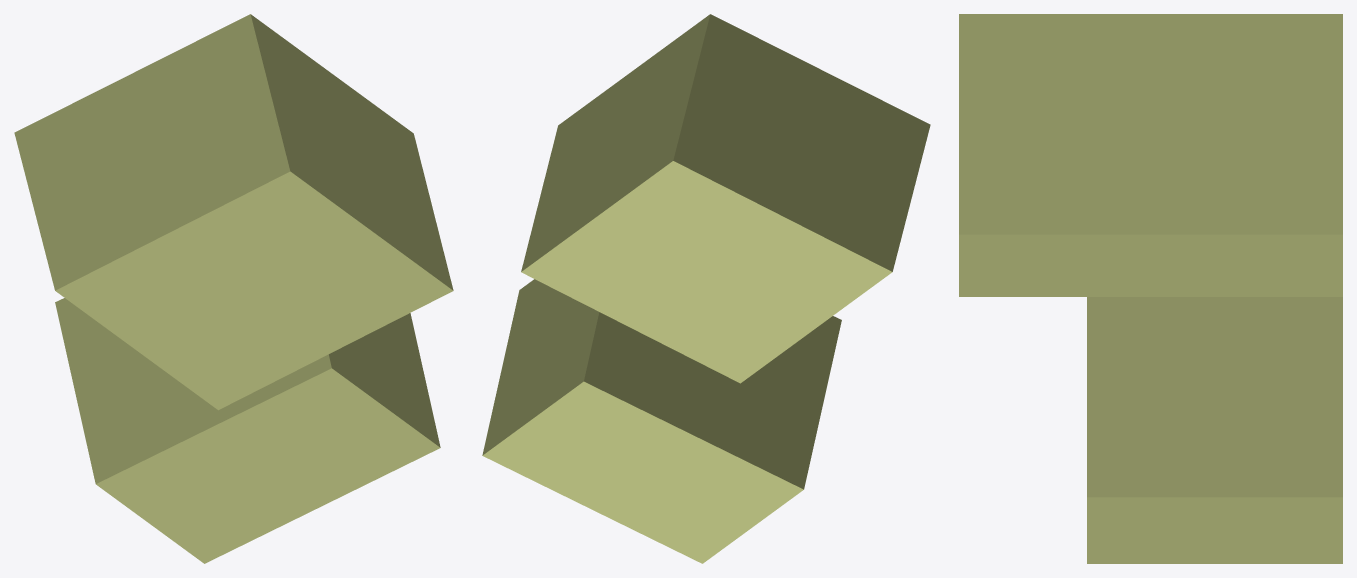
3 renders of one model, left to right at view 1: azimuth 30°, elevation 25°; view 2: azimuth 150°, elevation 25°; view 3: azimuth 270°, elevation 25°, orthographic. The views are drawn at different scales.
Parts seen in each view (by area): view 1: 0_1_2_0_3_3_0_3_2_0_0; view 2: 0_1_2_0_3_3_0_3_2_0_0; view 3: 0_1_2_0_3_3_0_3_2_0_0.
Boxes of the visible parts, x1,y1,x2,y2 form: 0_1_2_0_3_3_0_3_2_0_0: (14, 14, 453, 563); 0_1_2_0_3_3_0_3_2_0_0: (482, 14, 930, 563); 0_1_2_0_3_3_0_3_2_0_0: (959, 14, 1342, 563).
Bounding box in the file's own units: 10.1 × 13.15 × 9.
